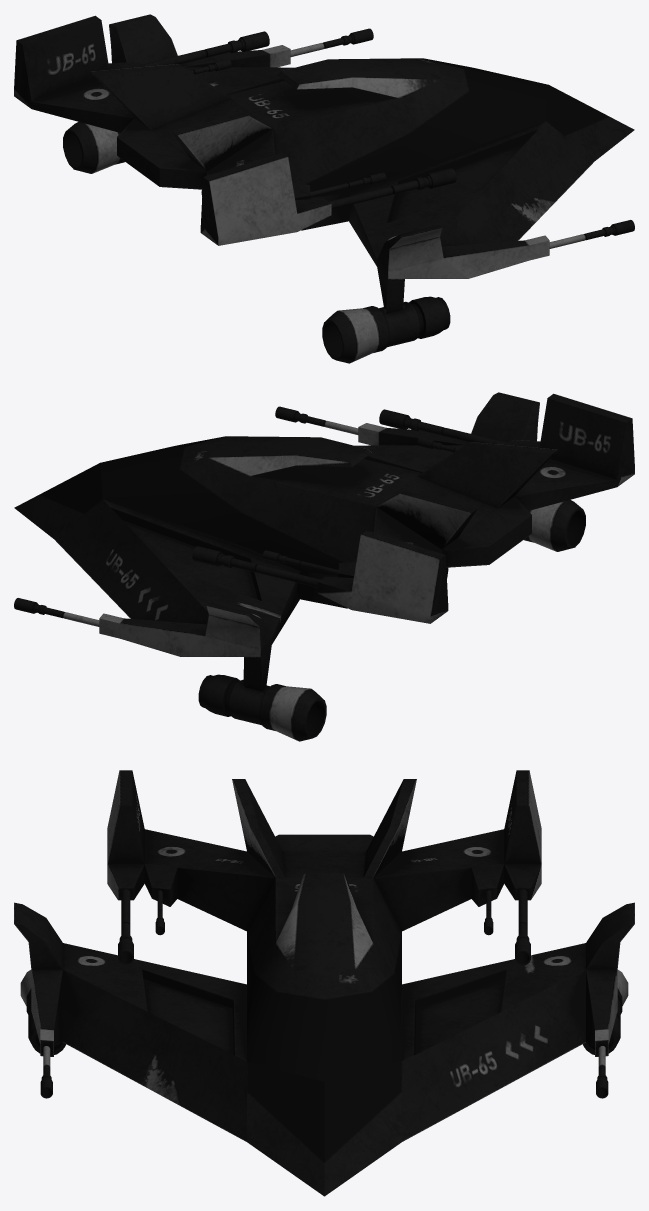
Rendered from nave_model_ub-65.glb.
3 renders of one model, top to bottom at view 1: azimuth 30°, elevation 25°; view 2: azimuth 150°, elevation 25°; view 3: azimuth 270°, elevation 25°, orthographic. The views are drawn at different scales.
Parts seen in each view (by area): view 1: Object_2, Object_3; view 2: Object_2, Object_3; view 3: Object_2, Object_3.
Boxes of the visible parts, box(x1,y1,x2,y2) form: Object_2: box(14, 14, 594, 360); Object_3: box(63, 28, 634, 363); Object_2: box(54, 392, 634, 738); Object_3: box(14, 406, 585, 741); Object_2: box(14, 770, 634, 1141); Object_3: box(20, 889, 628, 1196).
Size of the model in its own units: 4.14 by 1.41 by 4.01.
Materials: 1 (1 with a texture image).
